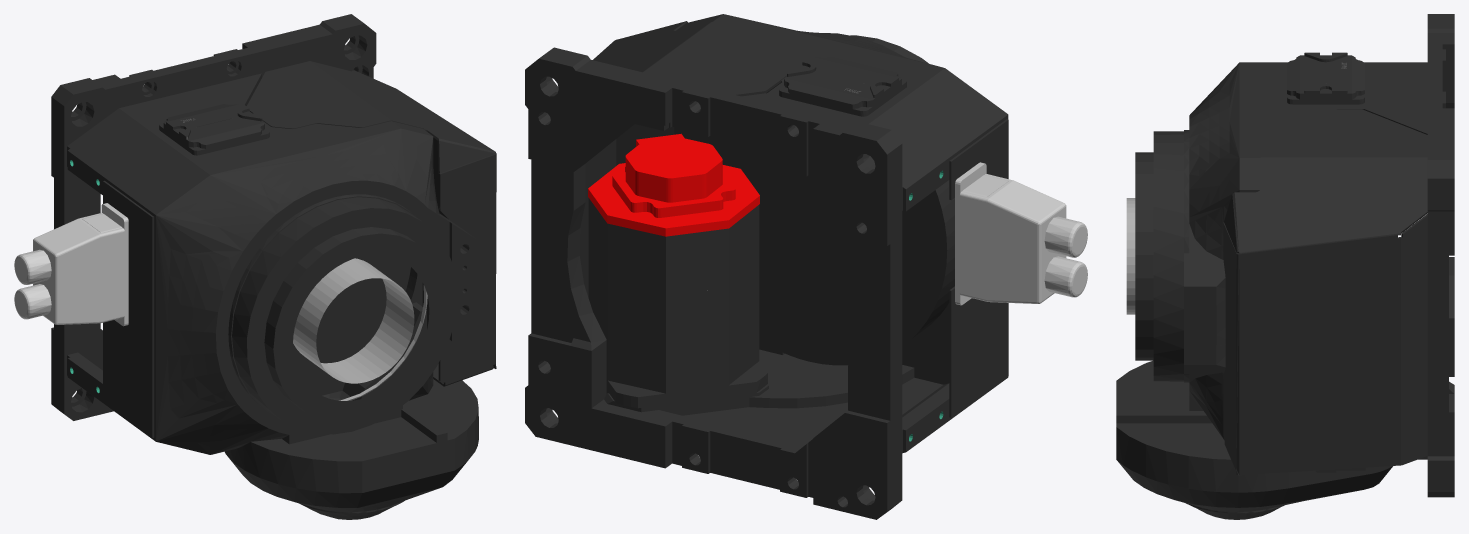
The picture shows the model from 3 angles, left to right: view 1: azimuth 30°, elevation 25°; view 2: azimuth 150°, elevation 25°; view 3: azimuth 270°, elevation 25°; orthographic projection. The views are drawn at different scales.
Visible parts, largest first — view 1: node; view 2: node; view 3: node.
Part boxes in pixels (x1,y1,x2,y2): node: (14,14,496,519); node: (525,14,1087,519); node: (1116,14,1454,519).
Size of the model in its own units: 482 by 412 by 313.
